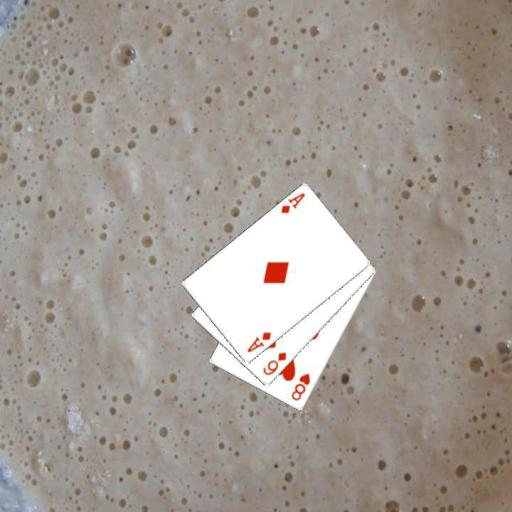6D: (260, 349, 288, 377)
8H: (288, 371, 311, 403)
AD: (278, 190, 307, 215), (244, 329, 272, 354)
